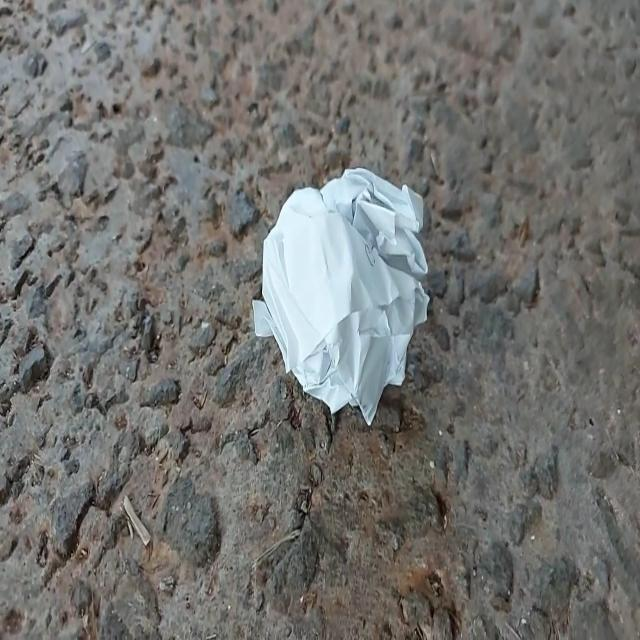Paper: (244, 149, 434, 438)
